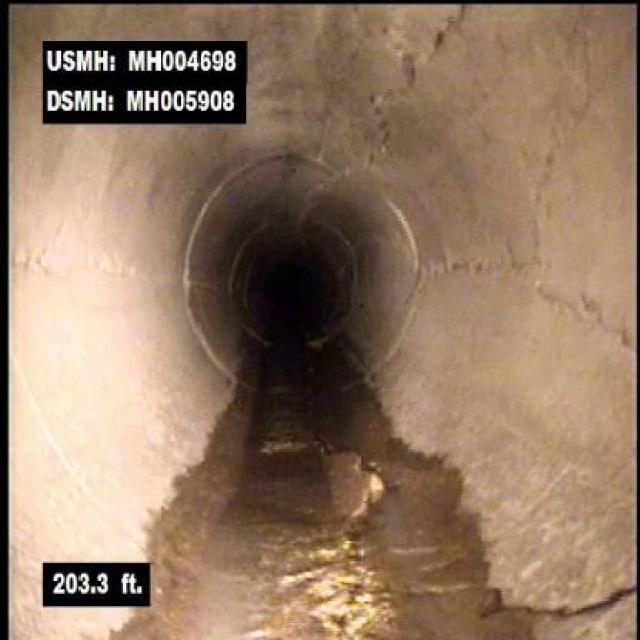Buckling: (331, 437, 394, 566)
Crack: (365, 8, 469, 132), (531, 277, 634, 348), (480, 578, 635, 622), (529, 136, 565, 270), (12, 215, 68, 280)
